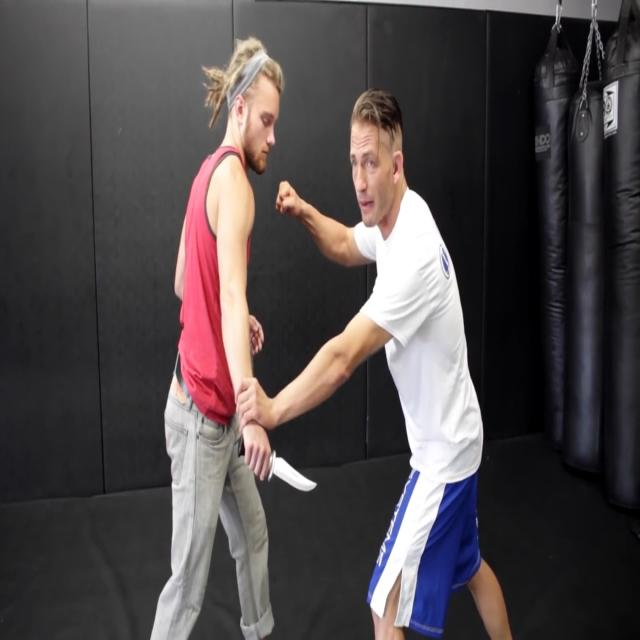knife: (272, 449, 319, 511)
